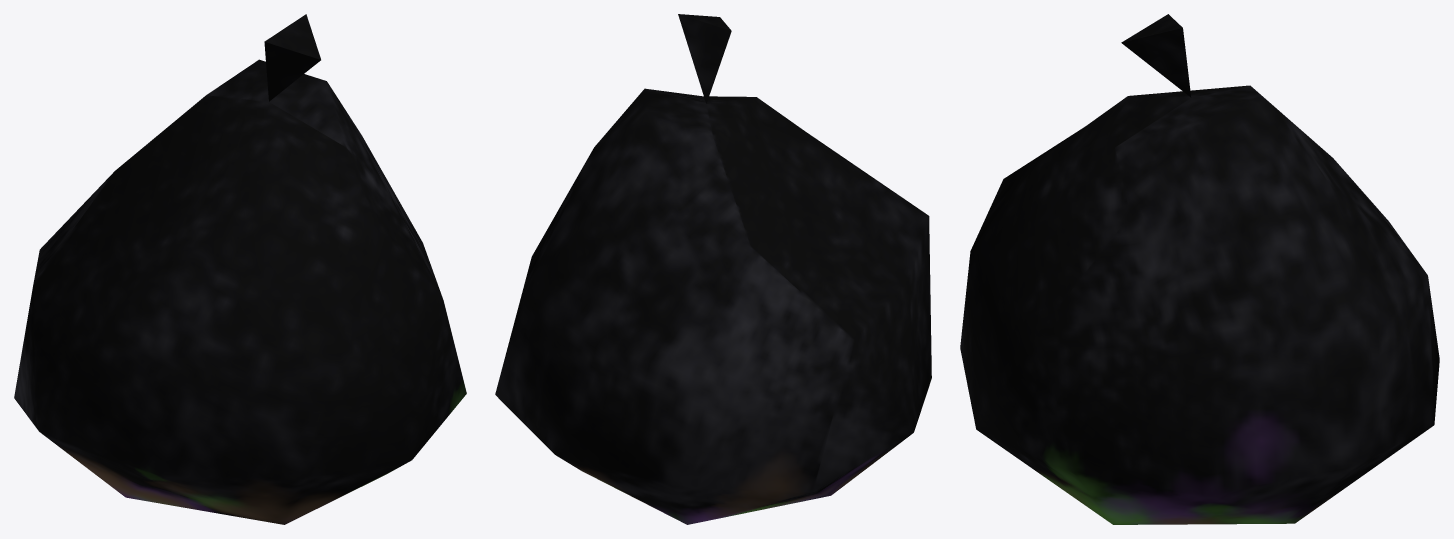
The model's file is Prop_062_Trashbag.fbx.
The picture shows the model from 3 angles, left to right: view 1: azimuth 30°, elevation 25°; view 2: azimuth 150°, elevation 25°; view 3: azimuth 270°, elevation 25°; orthographic projection. The views are drawn at different scales.
Parts seen in each view (by area): view 1: Prop_062_Trashbag; view 2: Prop_062_Trashbag; view 3: Prop_062_Trashbag.
Boxes of the visible parts, <box> form: Prop_062_Trashbag: <box>14,14,466,524</box>; Prop_062_Trashbag: <box>495,14,931,524</box>; Prop_062_Trashbag: <box>960,14,1439,524</box>.
Size of the model in its own units: 0.61 by 0.6697 by 0.6112.
Materials: 1 (1 with a texture image).
